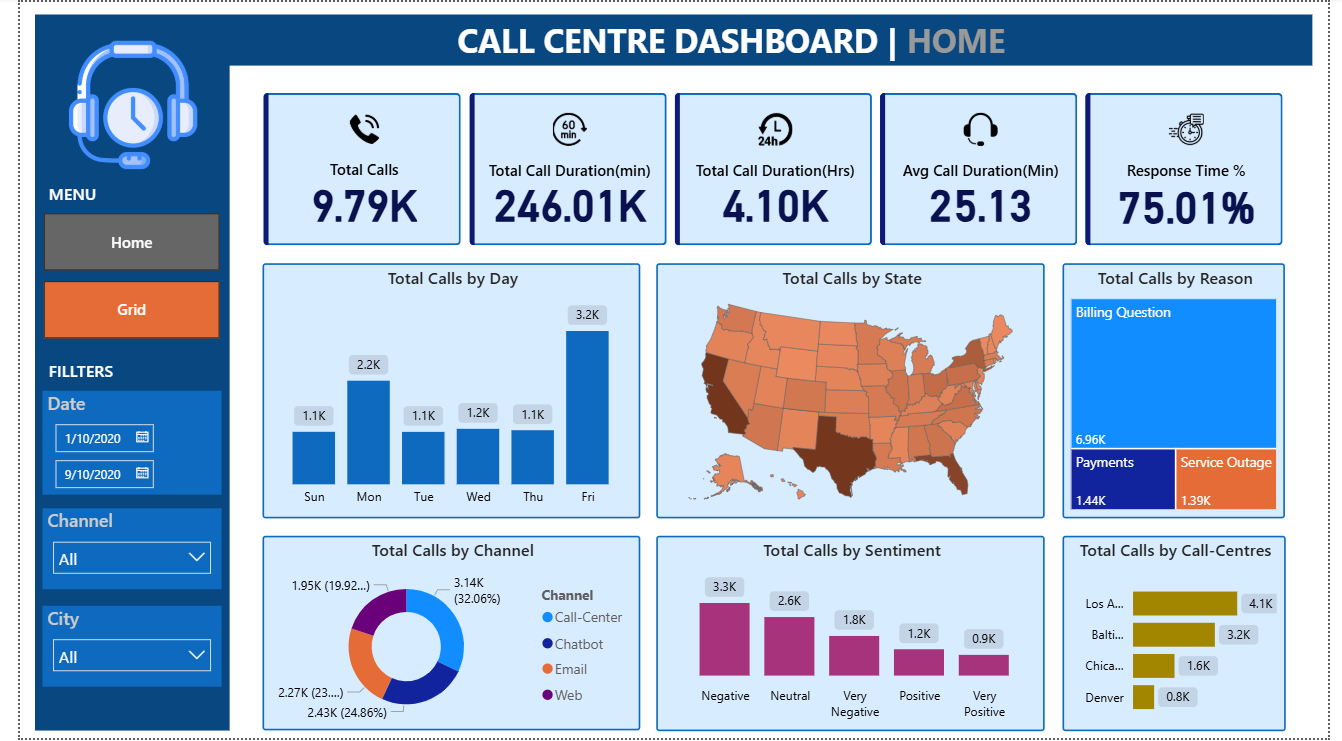

This screenshot's page, from the dashboard's own definition file:
{"tool":"powerbi","page":{"name":"Home","canvas":[1280,720],"ordinal":0},"visuals":[{"type":"shape","box":[14.4,12.8,1249.6,50],"z":0},{"type":"shape","box":[14.7,59.9,190.8,653],"z":1000},{"type":"cardVisual","fields":{"Data":["Call Center_Call Center.Total Calls","Call Center_Call Center.Total Call Duration(min)","Call Center_Call Center.Total Call Duration(Hrs)","Call Center_Call Center.Avg Call Duration(Min)","Call Center_Call Center.Response Time %"]},"box":[221.3,72.1,1032.1,183.4],"z":2000},{"type":"textbox","box":[423.1,11,558.8,55],"z":3000},{"type":"columnChart","fields":{"Category":["Date Table.Day"],"Y":["Call Center_Call Center.Total Calls"]},"box":[237.2,255.6,369.3,249.5],"z":4000},{"type":"shapeMap","fields":{"Category":["Call Center_Call Center.State"],"Value":["Call Center_Call Center.Total Calls"]},"box":[622.4,255.6,380.3,249.5],"z":5000},{"type":"treemap","fields":{"Group":["Call Center_Call Center.Reason"],"Values":["Call Center_Call Center.Total Calls"]},"box":[1019.8,255.6,217.7,249.5],"z":6000},{"type":"donutChart","fields":{"Category":["Call Center_Call Center.Channel"],"Y":["Call Center_Call Center.Total Calls"]},"box":[237.2,522.1,369.3,190.8],"z":7000},{"type":"columnChart","fields":{"Category":["Call Center_Call Center.Sentiment"],"Y":["Call Center_Call Center.Total Calls"]},"box":[622,522,380,191],"z":8000},{"type":"barChart","fields":{"Category":["Call Center_Call Center.Call-Centres City"],"Y":["Call Center_Call Center.Total Calls"]},"box":[1020,522,218,191],"z":9000},{"type":"slicer","title":"Date","fields":{"Values":["Date Table.Date"]},"box":[22,380.3,174.9,101.5],"z":10000},{"type":"slicer","title":"Channel","fields":{"Values":["Call Center_Call Center.Channel"]},"box":[22,495.2,174.9,79.5],"z":11000},{"type":"slicer","title":"City","fields":{"Values":["Call Center_Call Center.Channel"]},"box":[22,590.6,174.9,79.5],"z":12000},{"type":"pageNavigator","box":[23.3,207.2,172.9,123.5],"z":12001},{"type":"textbox","box":[23.3,171.5,81,35.7],"z":12002},{"type":"textbox","box":[23.3,344.4,76.8,35.7],"z":12003},{"type":"image","box":[34.2,37.9,152.9,126],"z":12004}]}

Visuals, with their boxes in screenshot pixels (x1, y1, x2, y2), scaled from the page's 1280x720 canvas onto the 1342x741 screenshot:
shape: 15, 13, 1325, 65
shape: 15, 62, 215, 734
cardVisual - Call Center_Call Center.Total Calls x Call Center_Call Center.Total Call Duration(min): 232, 74, 1314, 263
textbox: 444, 11, 1029, 68
columnChart - Date Table.Day x Call Center_Call Center.Total Calls: 249, 263, 636, 520
shapeMap - Call Center_Call Center.State x Call Center_Call Center.Total Calls: 653, 263, 1051, 520
treemap - Call Center_Call Center.Reason x Call Center_Call Center.Total Calls: 1069, 263, 1297, 520
donutChart - Call Center_Call Center.Channel x Call Center_Call Center.Total Calls: 249, 537, 636, 734
columnChart - Call Center_Call Center.Sentiment x Call Center_Call Center.Total Calls: 652, 537, 1051, 734
barChart - Call Center_Call Center.Call-Centres City x Call Center_Call Center.Total Calls: 1069, 537, 1298, 734
"Date" slicer: 23, 391, 206, 496
"Channel" slicer: 23, 510, 206, 591
"City" slicer: 23, 608, 206, 690
pageNavigator: 24, 213, 206, 340
textbox: 24, 177, 109, 213
textbox: 24, 354, 105, 391
image: 36, 39, 196, 169
